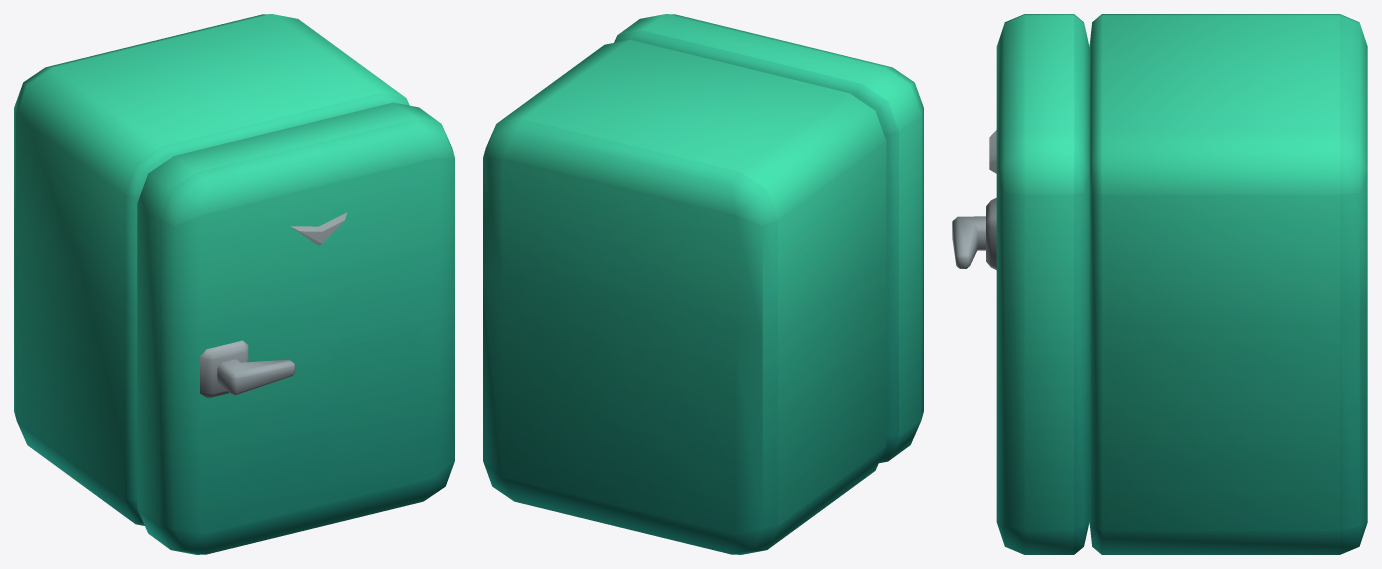
The model's file is kaykit-restaurant-bits-fridge-b.glb.
3 views of the same model, side by side, from view 1: azimuth 30°, elevation 25°; view 2: azimuth 150°, elevation 25°; view 3: azimuth 270°, elevation 25° (orthographic). The views are drawn at different scales.
Visible parts, largest first — view 1: fridge_B_door, Cube.006; view 2: Cube.006, fridge_B_door; view 3: Cube.006, fridge_B_door.
Boxes of the visible parts, x1,y1,x2,y2 form: fridge_B_door: (137,102,454,554); Cube.006: (14,14,409,525); Cube.006: (483,39,886,554); fridge_B_door: (614,14,923,463); Cube.006: (1089,14,1367,554); fridge_B_door: (952,14,1089,554).
Bounding box in the file's own units: 2 × 2.5 × 2.24.
Materials: 1 (1 with a texture image).
